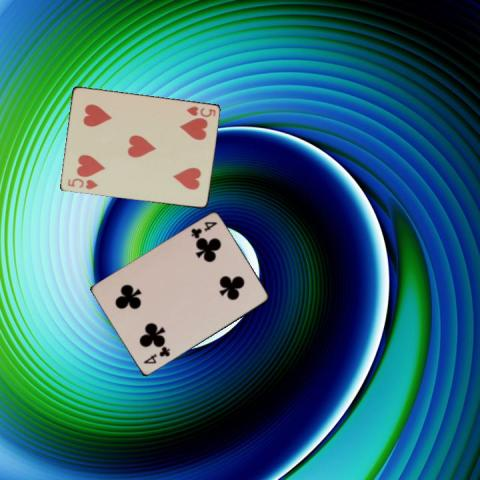4c: (188, 219, 219, 240), (141, 344, 171, 365)
5h: (65, 175, 99, 191), (183, 103, 217, 119)
